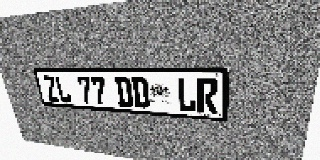7: (76, 76, 95, 105), (90, 76, 108, 106)
D: (130, 77, 150, 109), (114, 77, 134, 108)
L: (177, 78, 197, 112), (54, 76, 72, 103)
R: (197, 78, 218, 114)
Z: (42, 76, 60, 102)
